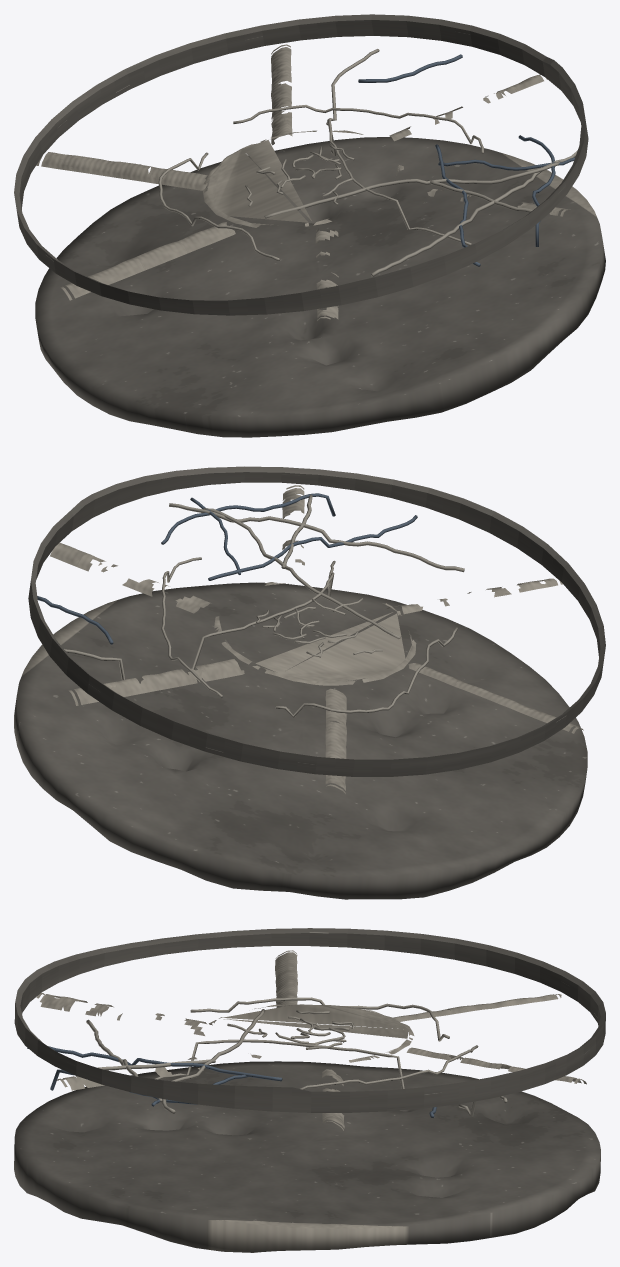
File: UNIT07_FK_IntakeClog.fbx
The picture shows the model from 3 angles, top to bottom: view 1: azimuth 30°, elevation 25°; view 2: azimuth 150°, elevation 25°; view 3: azimuth 270°, elevation 25°; orthographic projection. The views are drawn at different scales.
Visible parts, largest first — view 1: UNIT07_FK_IntakeClog_L_DustMat, UNIT07_FK_IntakeClog_L_RimDust, UNIT07_FK_IntakeClog_L_GuardDust, UNIT07_FK_IntakeClog_L_Fibers; view 2: UNIT07_FK_IntakeClog_L_DustMat, UNIT07_FK_IntakeClog_L_RimDust, UNIT07_FK_IntakeClog_L_GuardDust, UNIT07_FK_IntakeClog_L_Fibers; view 3: UNIT07_FK_IntakeClog_L_DustMat, UNIT07_FK_IntakeClog_L_RimDust, UNIT07_FK_IntakeClog_L_GuardDust, UNIT07_FK_IntakeClog_L_Fibers.
Part boxes in pixels (x1=…): UNIT07_FK_IntakeClog_L_DustMat: x1=35, y1=136, x2=605, y2=437; UNIT07_FK_IntakeClog_L_RimDust: x1=14, y1=14, x2=588, y2=315; UNIT07_FK_IntakeClog_L_GuardDust: x1=36, y1=44, x2=570, y2=320; UNIT07_FK_IntakeClog_L_Fibers: x1=158, y1=49, x2=577, y2=276; UNIT07_FK_IntakeClog_L_DustMat: x1=14, y1=582, x2=587, y2=899; UNIT07_FK_IntakeClog_L_RimDust: x1=28, y1=466, x2=605, y2=776; UNIT07_FK_IntakeClog_L_GuardDust: x1=50, y1=485, x2=583, y2=793; UNIT07_FK_IntakeClog_L_Fibers: x1=37, y1=493, x2=464, y2=717; UNIT07_FK_IntakeClog_L_DustMat: x1=14, y1=1061, x2=600, y2=1252; UNIT07_FK_IntakeClog_L_RimDust: x1=14, y1=928, x2=605, y2=1112; UNIT07_FK_IntakeClog_L_GuardDust: x1=36, y1=950, x2=586, y2=1130; UNIT07_FK_IntakeClog_L_Fibers: x1=27, y1=997, x2=507, y2=1117.
Size of the model in its own units: 0.0694 by 0.0295 by 0.0676.
